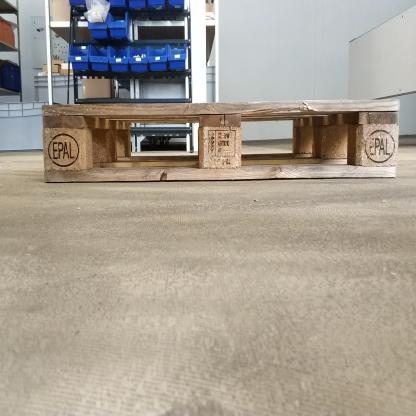BoxFace: (39, 96, 403, 185)
